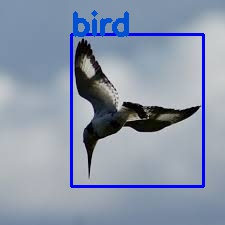bird: (70, 33, 203, 186)
